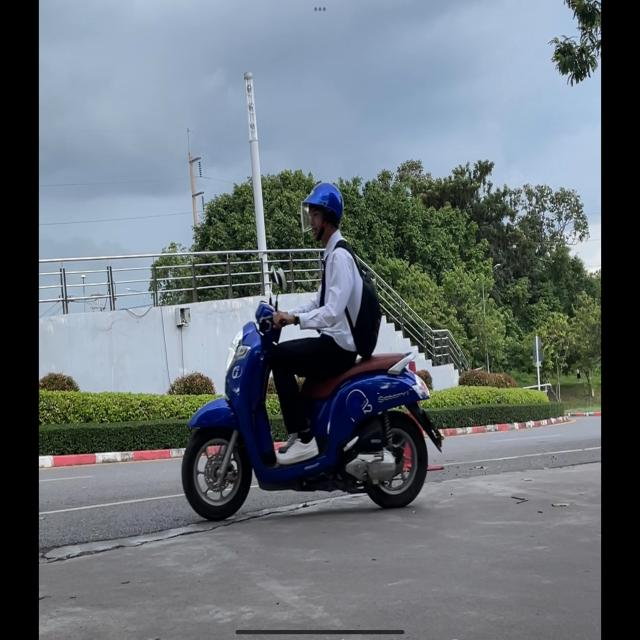no-seatbelt: (298, 179, 346, 245)
